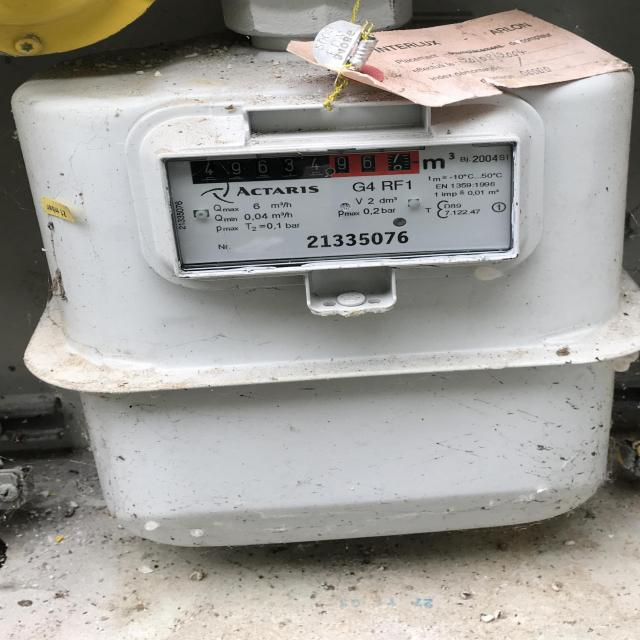gaz_meter: (160, 139, 518, 275)
indication: (185, 148, 418, 186)
